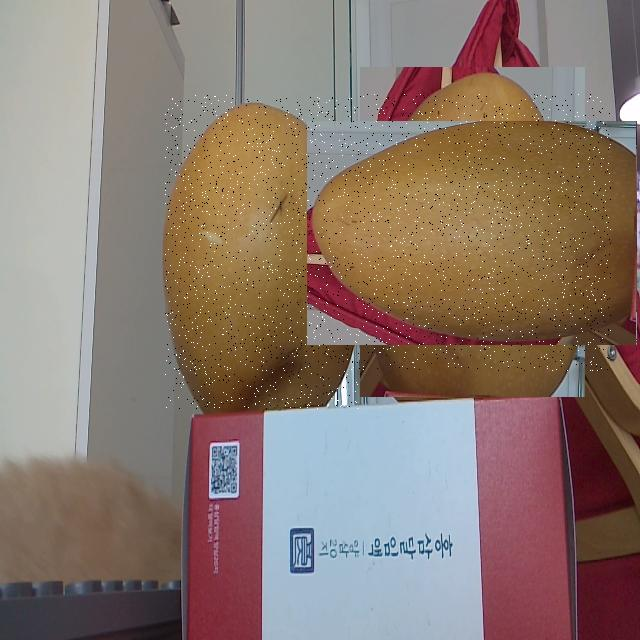pear: (334, 94, 611, 371), (165, 95, 358, 409)
